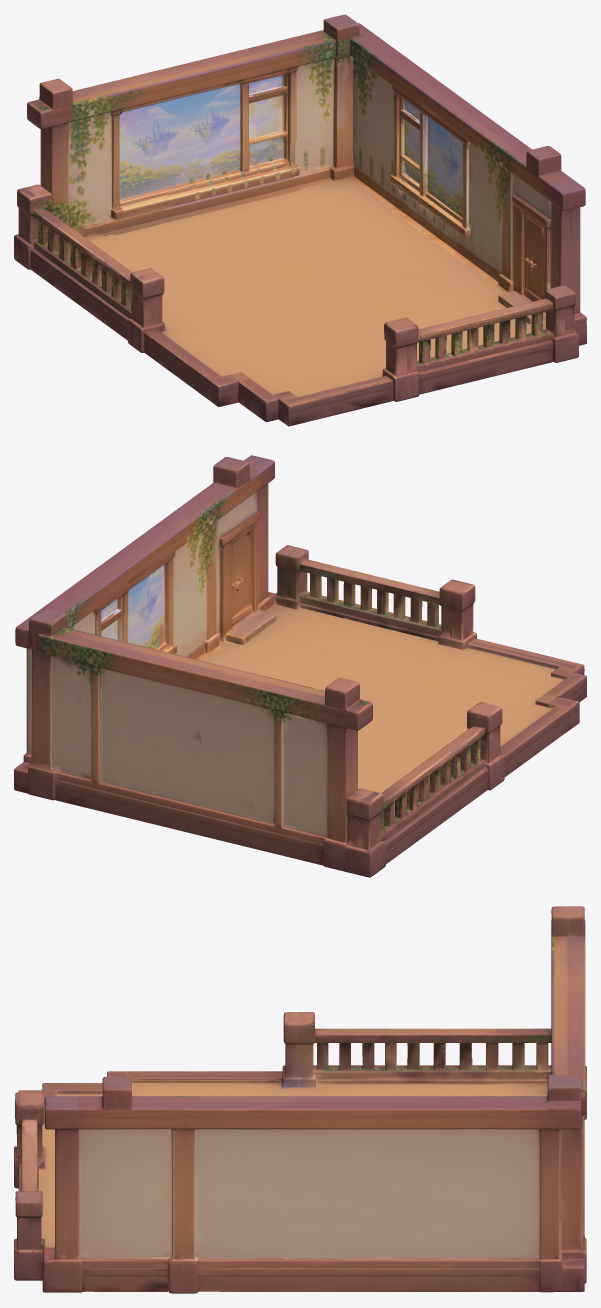
File: house_three.glb
The picture shows the model from 3 angles, top to bottom: view 1: azimuth 30°, elevation 25°; view 2: azimuth 150°, elevation 25°; view 3: azimuth 270°, elevation 25°; orthographic projection. The views are drawn at different scales.
Visible parts, largest first — view 1: node_0; view 2: node_0; view 3: node_0.
Part boxes in pixels (x1,y1,x2,y2): node_0: (14,14,586,426); node_0: (14,455,586,877); node_0: (14,906,586,1293).
Bounding box in the file's own units: 0.7356 × 0.3481 × 0.8897.
Materials: 1 (1 with a texture image).
